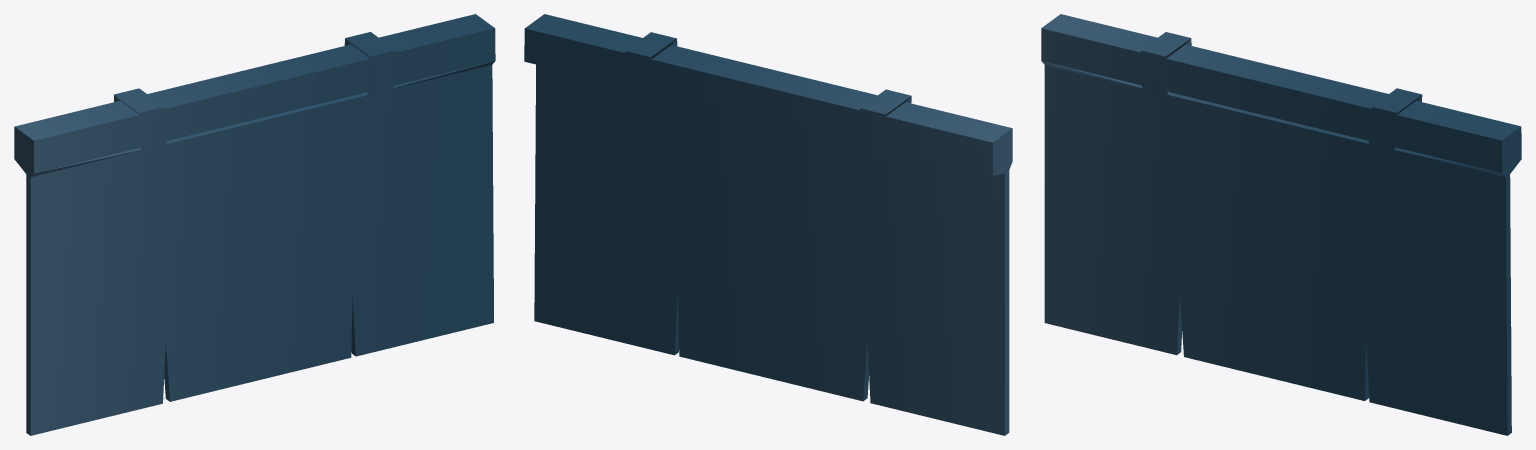
File: Noren_Blank_Blue.gltf
The picture shows the model from 3 angles, left to right: view 1: azimuth 30°, elevation 25°; view 2: azimuth 150°, elevation 25°; view 3: azimuth 330°, elevation 25°; orthographic projection.
Visible parts, largest first — view 1: Noren_Blank_Blue; view 2: Noren_Blank_Blue; view 3: Noren_Blank_Blue.
Boxes of the visible parts, x1,y1,x2,y2 form: Noren_Blank_Blue: (14,14,495,435); Noren_Blank_Blue: (524,14,1012,435); Noren_Blank_Blue: (1041,14,1521,435).
Size of the model in its own units: 1 by 0.6267 by 0.0953.
Materials: 1 (1 with a texture image).
